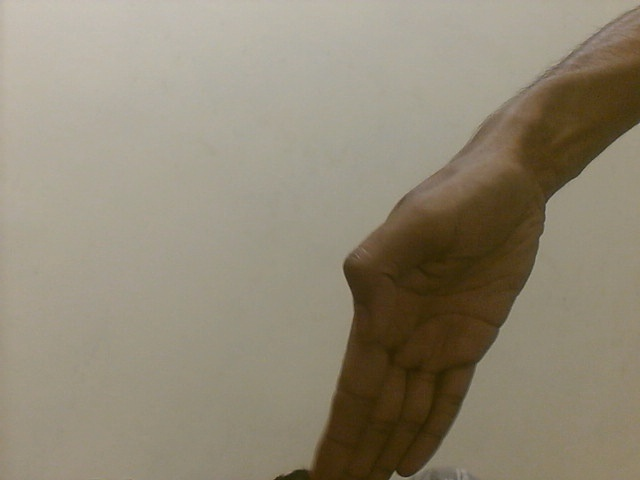hand: (303, 147, 548, 480)
